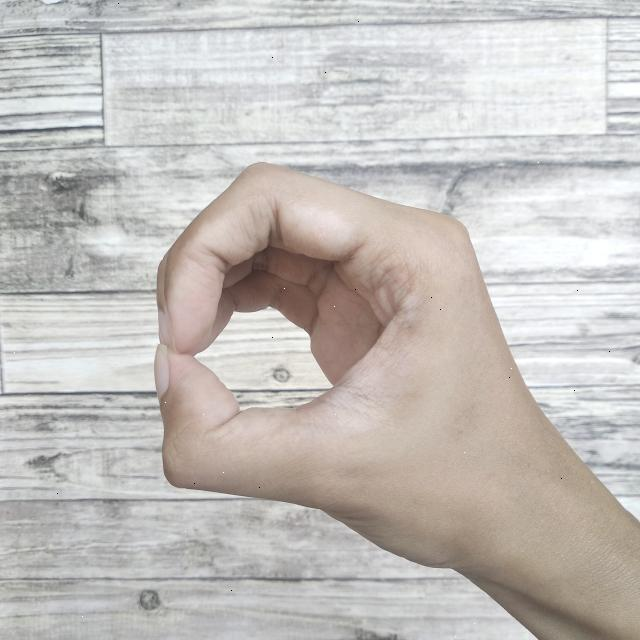O: (145, 154, 640, 632)
